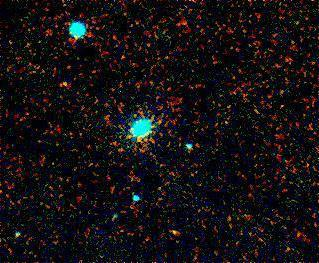star: (159, 216, 189, 246)
